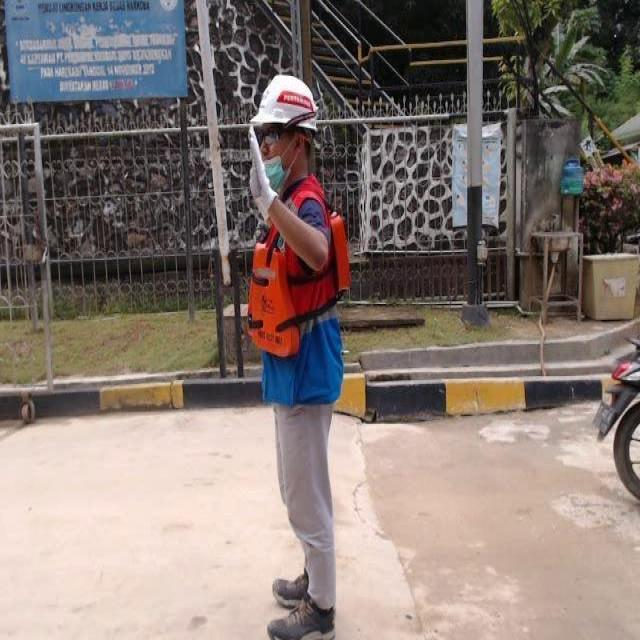Vest: (244, 213, 356, 359)
